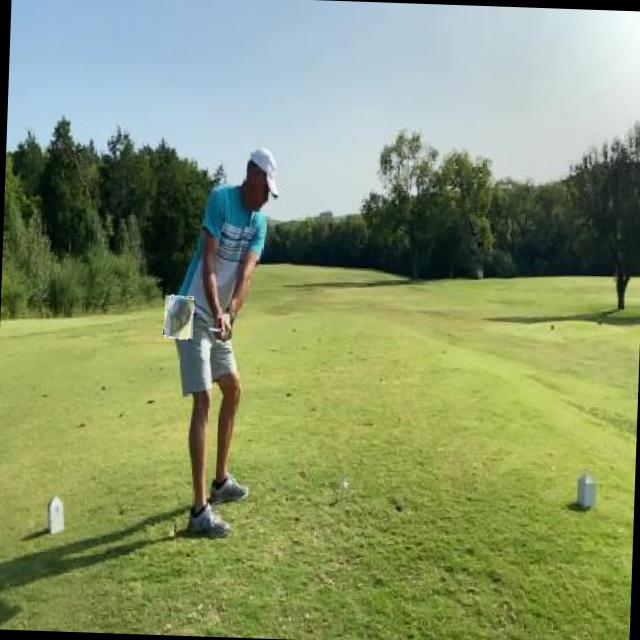club head: (164, 294, 194, 338)
